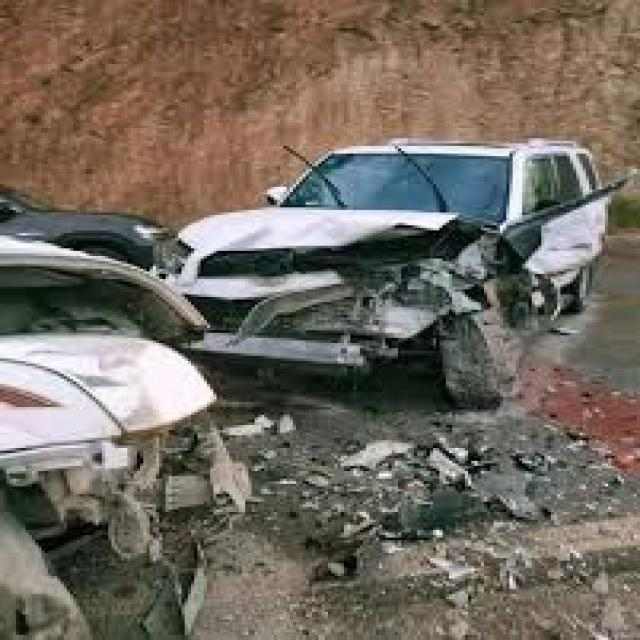accident: (7, 156, 640, 492)
